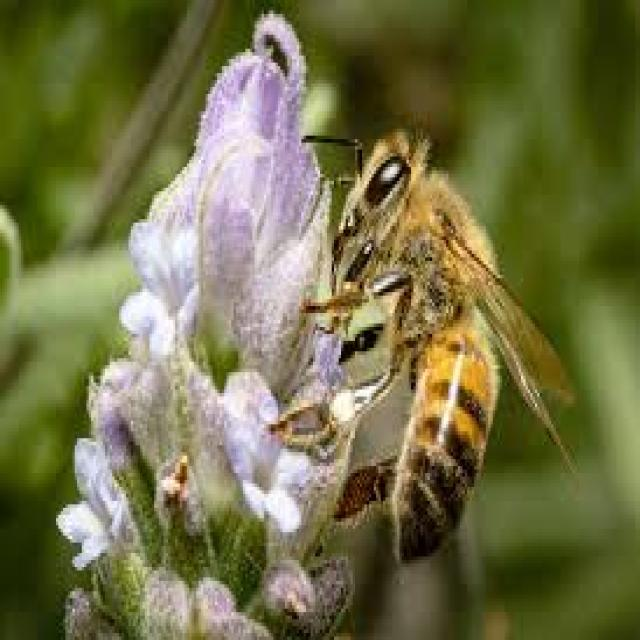Bees: (301, 125, 578, 568)
